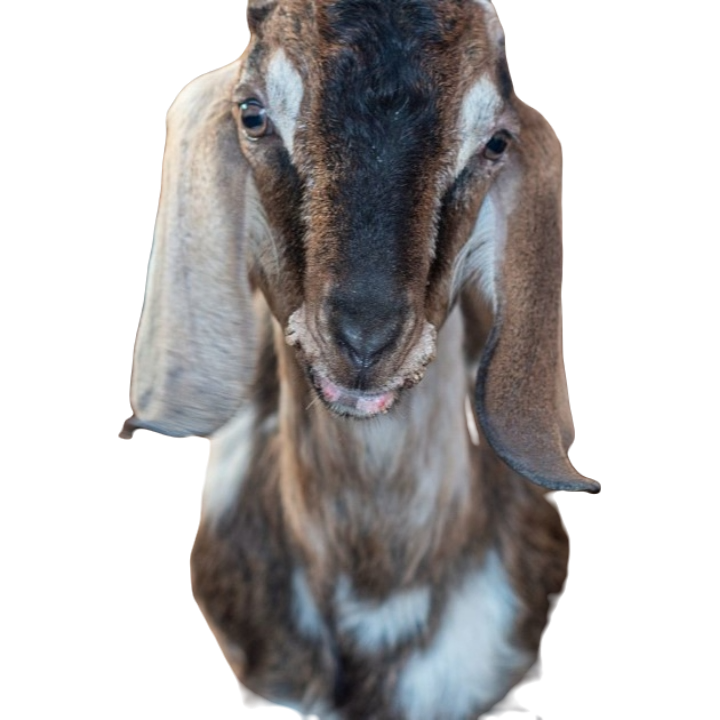Goat: (126, 0, 600, 720)
